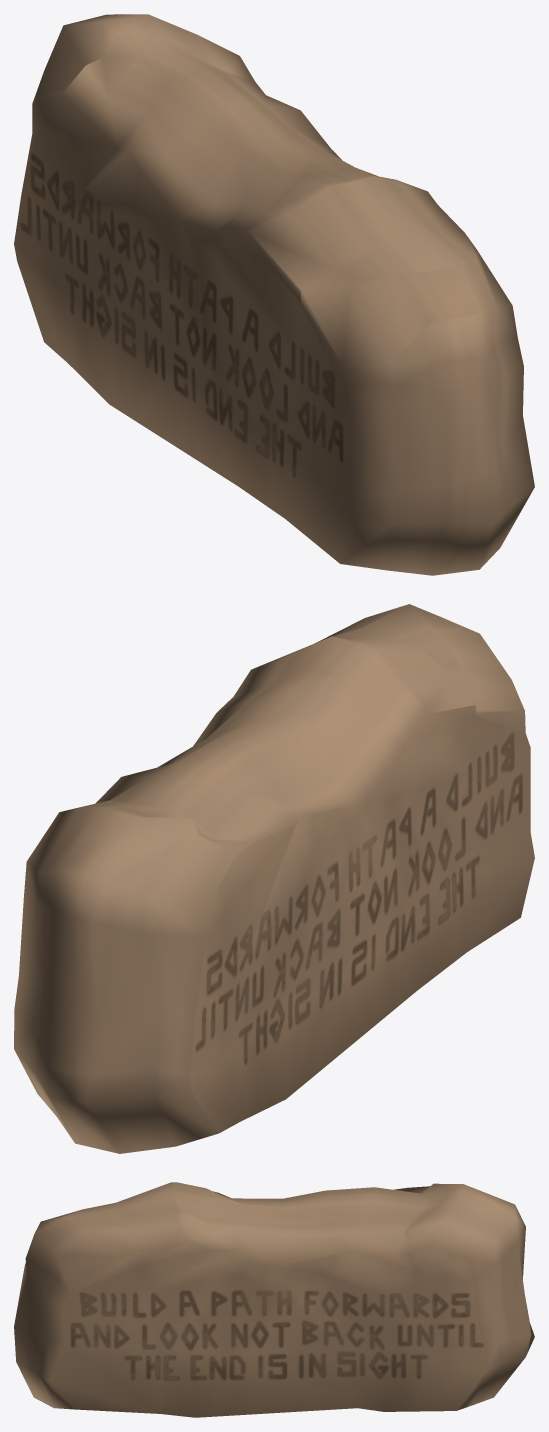
The model's file is InstructionalHintJeroglyph.fbx.
3 renders of one model, top to bottom at view 1: azimuth 30°, elevation 25°; view 2: azimuth 150°, elevation 25°; view 3: azimuth 270°, elevation 25°, orthographic. The views are drawn at different scales.
Parts seen in each view (by area): view 1: Cube; view 2: Cube; view 3: Cube.
Part boxes in pixels (x1,y1,x2,y2): Cube: (14, 14, 534, 575); Cube: (14, 604, 534, 1153); Cube: (14, 1182, 534, 1417).
Size of the model in its own units: 238 by 394 by 910.
Materials: 1 (1 with a texture image).
